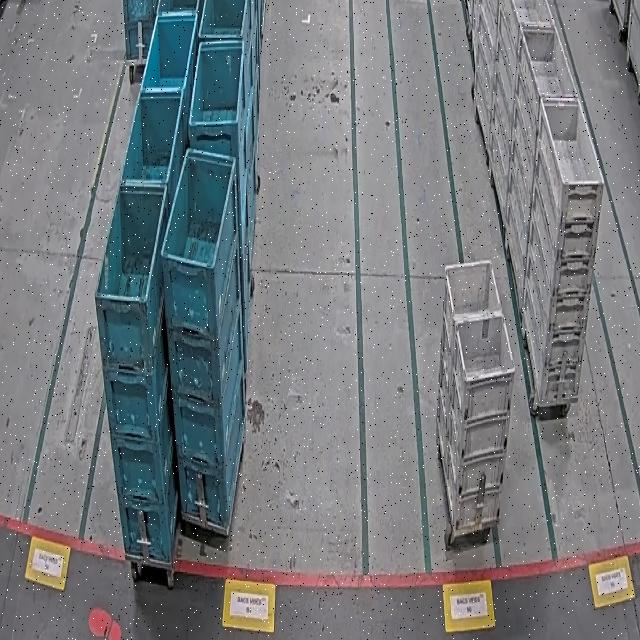6G: (520, 101, 602, 411)
8G: (439, 256, 515, 534)
B4: (160, 148, 248, 528), (95, 187, 180, 567)
